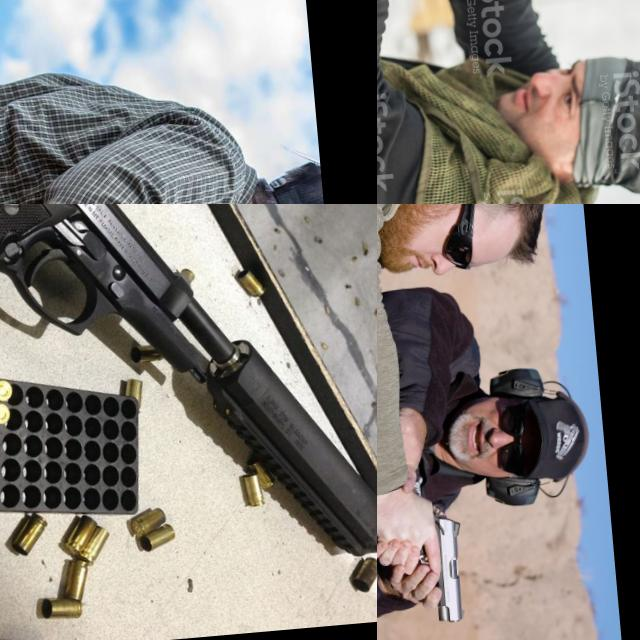handgun: (0, 204, 258, 431), (414, 498, 472, 629), (427, 0, 497, 77)
